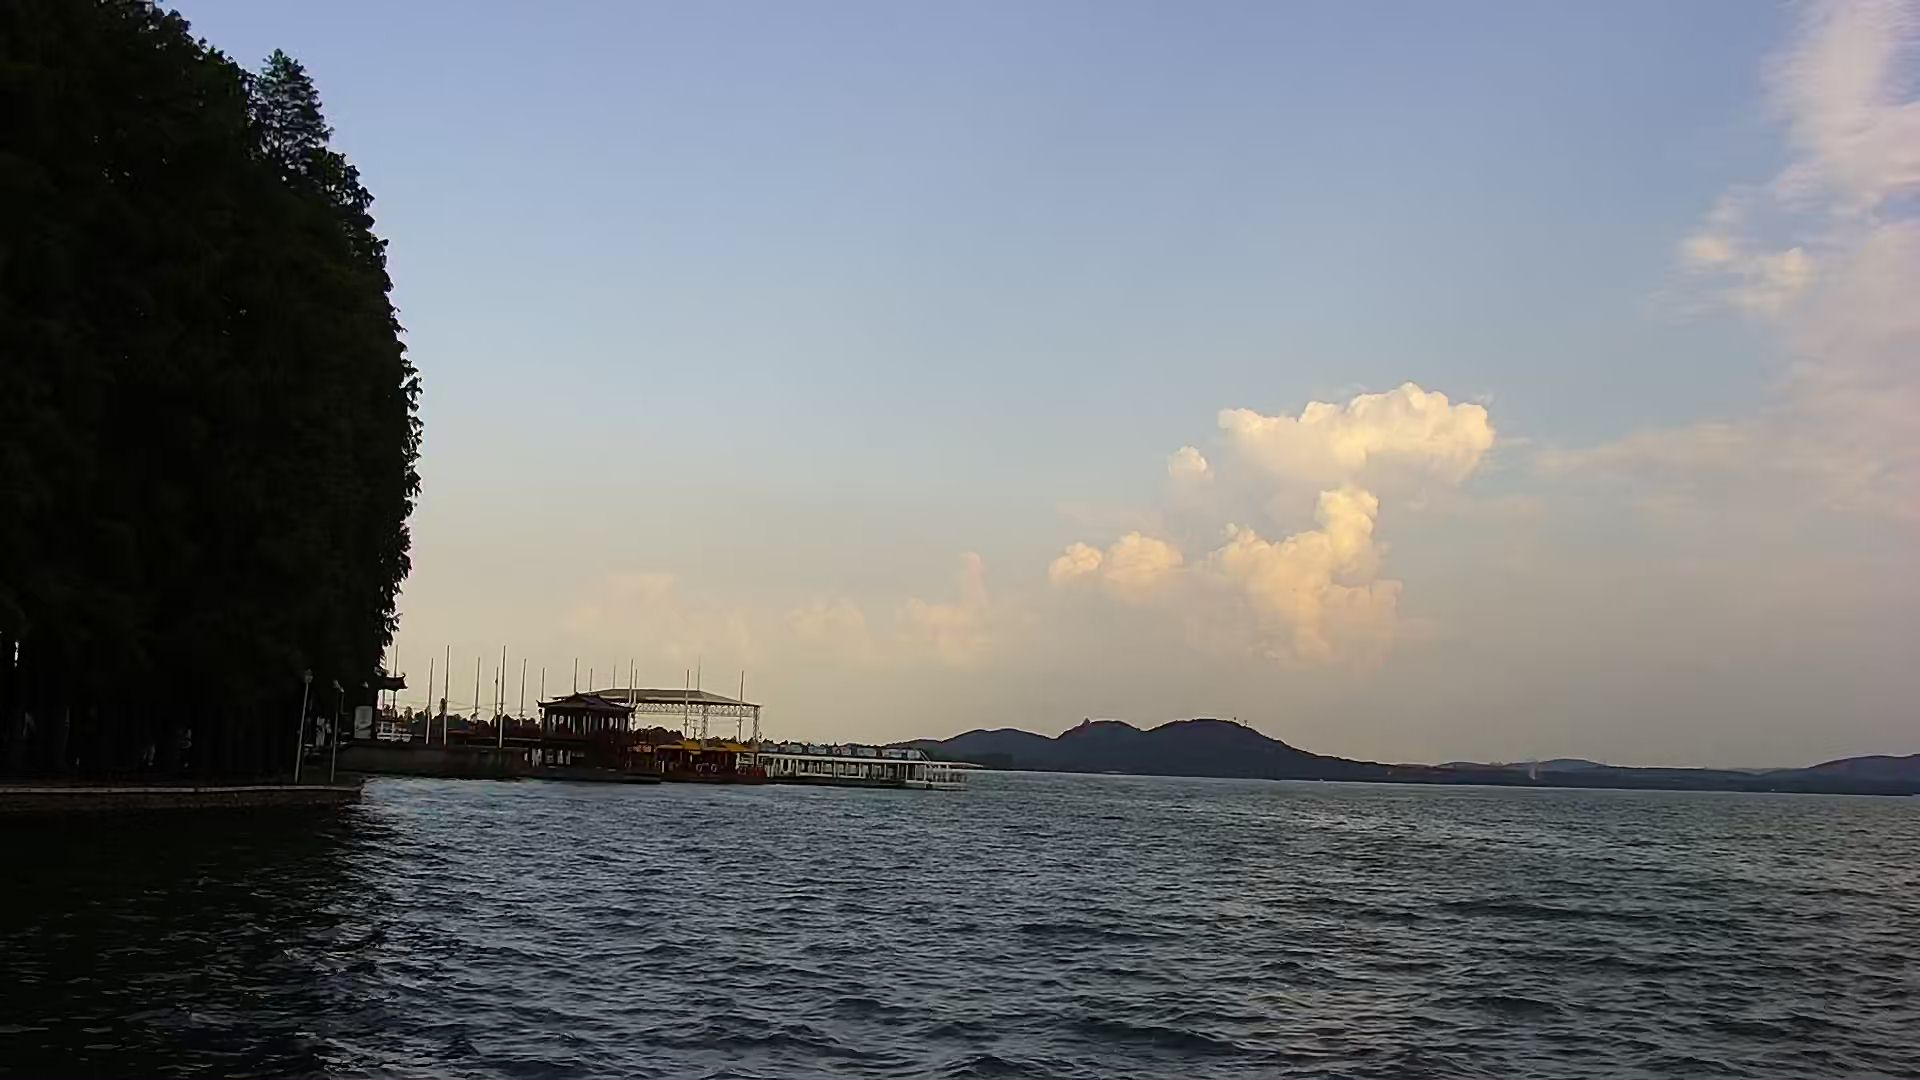boat: (758, 737, 977, 800)
